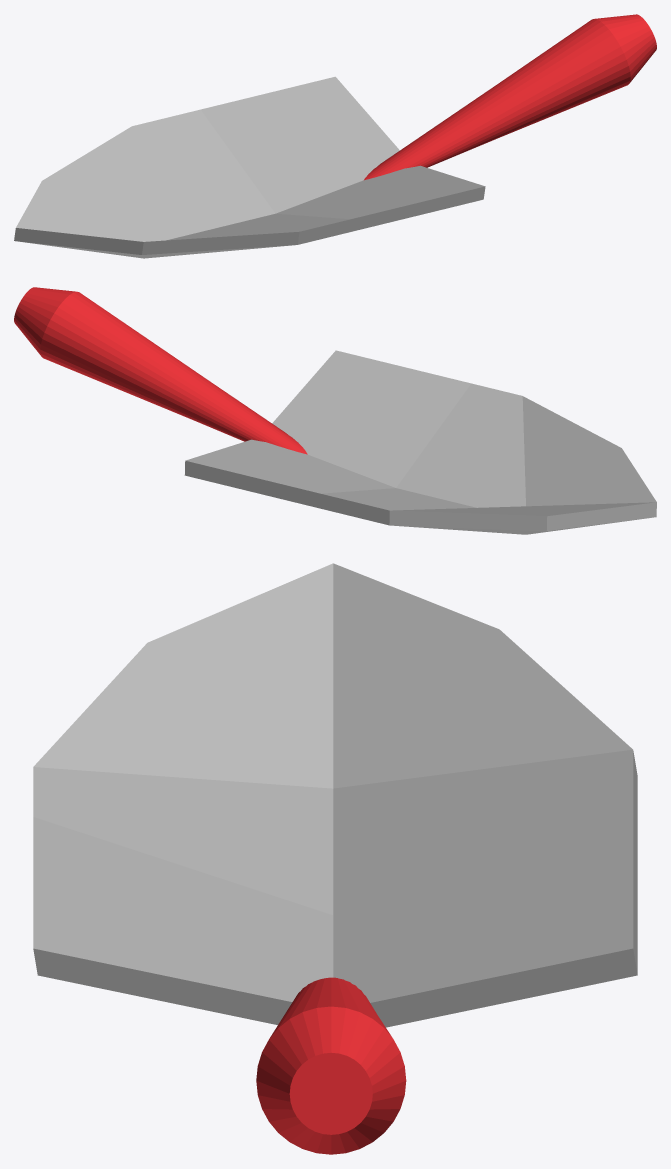
Rendered from scoop.fbx.
3 views of the same model, one above another, from view 1: azimuth 30°, elevation 25°; view 2: azimuth 150°, elevation 25°; view 3: azimuth 270°, elevation 25° (orthographic). The views are drawn at different scales.
Visible parts, largest first — view 1: Cube, Cylinder; view 2: Cube, Cylinder; view 3: Cube, Cylinder.
Part boxes in pixels (x1,y1,x2,y2): Cube: (14, 76, 485, 258); Cylinder: (364, 14, 656, 180); Cube: (184, 350, 656, 534); Cylinder: (14, 287, 307, 454); Cube: (33, 563, 637, 1027); Cylinder: (256, 977, 406, 1154).
Size of the model in its own units: 48.87 by 9.33 by 20.15.
